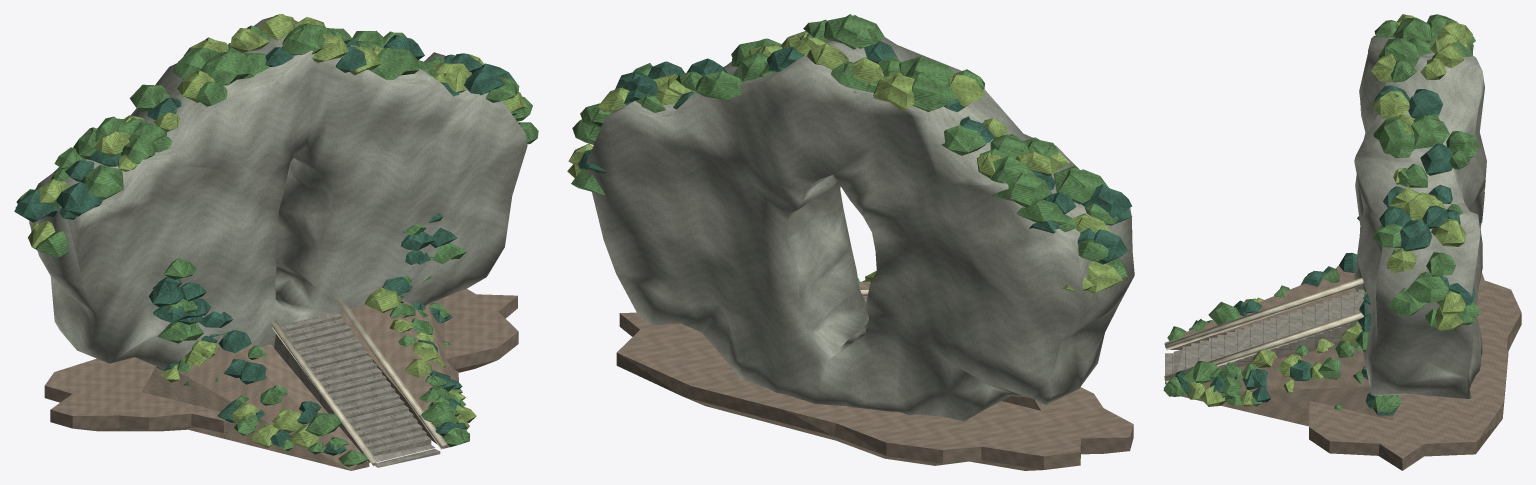
Rendered from tianmen.glb.
The picture shows the model from 3 angles, left to right: view 1: azimuth 30°, elevation 25°; view 2: azimuth 150°, elevation 25°; view 3: azimuth 270°, elevation 25°; orthographic projection. The views are drawn at different scales.
Visible parts, largest first — view 1: 张家界天门山; view 2: 张家界天门山; view 3: 张家界天门山.
Part boxes in pixels (left/top/right/bottom): 张家界天门山: left=14, top=14, right=538, bottom=470; 张家界天门山: left=567, top=14, right=1134, bottom=470; 张家界天门山: left=1163, top=14, right=1521, bottom=470.
Bounding box in the file's own units: 7.45 × 4.81 × 4.6.
Materials: 7 (7 with a texture image).
